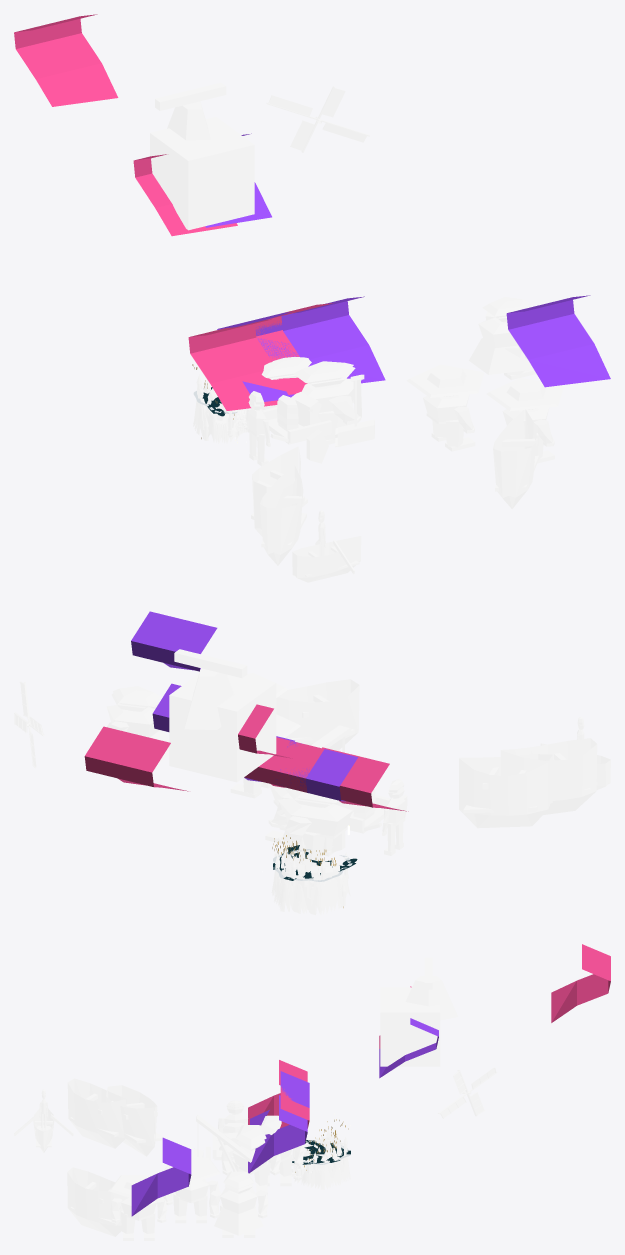
The model's file is ile-port-v5-leger.glb.
3 renders of one model, top to bottom at view 1: azimuth 30°, elevation 25°; view 2: azimuth 150°, elevation 25°; view 3: azimuth 270°, elevation 25°, orthographic. The views are drawn at different scales.
Visible parts, largest first — view 1: ile_anime6.001, ile_banniere6.001, ile_banniere7.001, ile_banniere0.001, ile_banniere1.001, ile_anime13.001, ile_copie0.001, ile_anime1.001, ile_anime12.001, ile_anime10.001, ile_anime9.001, ile_anime2.001 (+11 smaller); view 2: ile_anime5.001, ile_anime0.001, ile_anime2.001, ile_anime1.001, ile_corps.001, ile_anime11.001, ile_banniere6.001, ile_banniere7.001, ile_anime4.001, ile_anime6.001, ile_anime13.001, ile_banniere3.001 (+11 smaller); view 3: ile_anime5.001, ile_anime2.001, ile_anime12.001, ile_anime1.001, ile_banniere7.001, ile_banniere6.001, ile_anime0.001, ile_corps.001, ile_anime9.001, ile_copie0.001, ile_anime6.001, ile_anime10.001 (+12 smaller).
Boxes of the visible parts, x1,y1,x2,y2 form: ile_anime6.001: (150,118,254,230); ile_banniere6.001: (14,14,118,106); ile_banniere7.001: (506,295,610,387); ile_banniere0.001: (188,319,285,410); ile_banniere1.001: (281,296,385,383); ile_anime13.001: (246,391,332,466); ile_copie0.001: (406,364,484,451); ile_anime1.001: (493,409,538,508); ile_anime12.001: (469,297,536,379); ile_anime10.001: (293,361,361,444); ile_anime9.001: (486,378,563,463); ile_anime2.001: (260,465,306,565); ile_anime5.001: (169,674,275,782); ile_anime0.001: (459,754,552,828); ile_anime2.001: (500,738,597,814); ile_anime1.001: (276,679,359,750); ile_corps.001: (271,835,350,915); ile_anime11.001: (274,787,352,861); ile_banniere6.001: (84,726,188,791); ile_banniere7.001: (131,611,217,671); ile_anime4.001: (174,649,247,729); ile_anime6.001: (171,674,276,781); ile_anime13.001: (331,779,407,855); ile_banniere3.001: (244,737,324,792); ile_anime5.001: (380,987,440,1066); ile_anime2.001: (67,1078,126,1148); ile_anime12.001: (209,1171,268,1237); ile_anime1.001: (67,1167,124,1236); ile_banniere7.001: (131,1137,191,1216); ile_banniere6.001: (551,944,610,1022); ile_anime0.001: (106,1085,164,1156); ile_corps.001: (291,1127,350,1189); ile_anime9.001: (109,1175,167,1240); ile_copie0.001: (163,1157,220,1223); ile_anime6.001: (380,987,439,1066); ile_anime10.001: (221,1125,280,1195).
Size of the model in its own units: 11.59 by 8.23 by 20.01.
